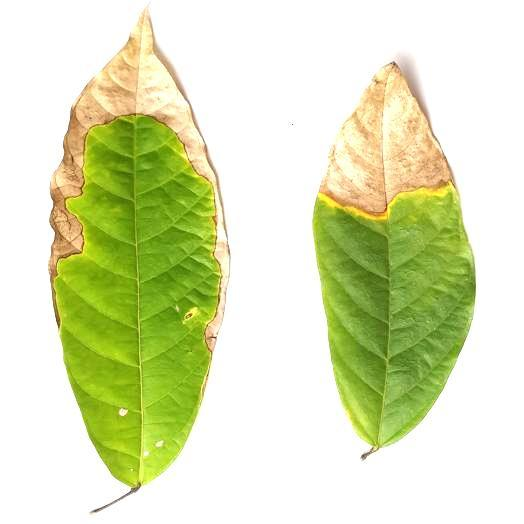Potassium: (50, 12, 228, 495), (314, 63, 474, 458)
